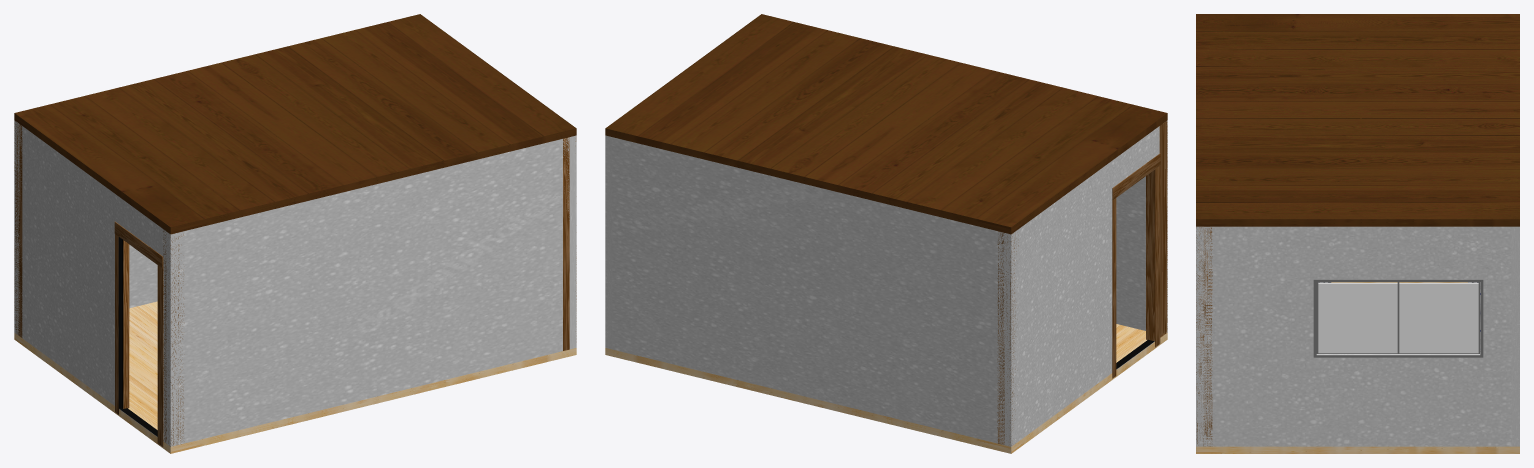
File: IVRC Room.obj
3 renders of one model, left to right at view 1: azimuth 30°, elevation 25°; view 2: azimuth 150°, elevation 25°; view 3: azimuth 270°, elevation 25°, orthographic. The views are drawn at different scales.
Visible parts, largest first — view 1: pCube9, pCube6, pCube78, pCube1, door_edge pasted__group_pasted__pasted__pCube4, pCube10, pCube27, pasted__pCube4 group, pCube2, door_edge pasted__pasted__pasted__pasted__pCube4, pCube5, pasted__pasted__pasted__pasted__pCube5 door_edge; view 2: pCube10, pCube6, pCube78, pCube1, pCube9, door_edge pasted__pasted__pasted__pasted__pCube4, pCube5, pCube27, pasted__pCube4 group, door_edge pasted__group_pasted__pasted__pCube4, pasted__pasted__pasted__pasted__pCube5 door_edge; view 3: pCube6, pCube27, pCube60 group4, group5 group3 pCube56, pCube1, pCube10, pCube59, pCube2, pCube9, group4 pCube61, pCube58 group5 group3.
Boxes of the visible parts, left/top/right/bottom form: pCube9: left=166, top=137, right=576, bottom=445; pCube6: left=14, top=14, right=576, bottom=234; pCube78: left=14, top=120, right=177, bottom=446; pCube1: left=14, top=301, right=576, bottom=453; door_edge pasted__group_pasted__pasted__pCube4: left=115, top=234, right=129, bottom=414; pCube10: left=14, top=122, right=157, bottom=334; pCube27: left=569, top=135, right=576, bottom=349; pasted__pCube4 group: left=14, top=121, right=22, bottom=337; pCube2: left=563, top=137, right=576, bottom=350; door_edge pasted__pasted__pasted__pasted__pCube4: left=157, top=258, right=163, bottom=446; pCube5: left=163, top=230, right=183, bottom=446; pasted__pasted__pasted__pasted__pCube5 door_edge: left=114, top=221, right=162, bottom=268; pCube10: left=605, top=135, right=1014, bottom=445; pCube6: left=605, top=14, right=1167, bottom=234; pCube78: left=1004, top=120, right=1167, bottom=446; pCube1: left=605, top=324, right=1167, bottom=453; pCube9: left=1116, top=125, right=1167, bottom=330; door_edge pasted__pasted__pasted__pasted__pCube4: left=1146, top=166, right=1160, bottom=347; pCube5: left=1159, top=121, right=1167, bottom=337; pCube27: left=605, top=136, right=612, bottom=349; pasted__pCube4 group: left=997, top=231, right=1018, bottom=445; door_edge pasted__group_pasted__pasted__pCube4: left=1112, top=198, right=1116, bottom=378; pasted__pasted__pasted__pasted__pCube5 door_edge: left=1112, top=153, right=1160, bottom=200; pCube6: left=1196, top=14, right=1519, bottom=226; pCube27: left=1196, top=226, right=1519, bottom=446; pCube60 group4: left=1318, top=283, right=1397, bottom=353; group5 group3 pCube56: left=1399, top=283, right=1478, bottom=353; pCube1: left=1196, top=282, right=1519, bottom=453; pCube10: left=1511, top=226, right=1519, bottom=446; pCube59: left=1313, top=279, right=1483, bottom=357; pCube2: left=1196, top=227, right=1212, bottom=446; pCube9: left=1196, top=227, right=1204, bottom=446; group4 pCube61: left=1316, top=282, right=1398, bottom=353; pCube58 group5 group3: left=1397, top=282, right=1479, bottom=353.
Bounding box in the file's own units: 30.13 × 16 × 20.
13 materials, 10 textured.
